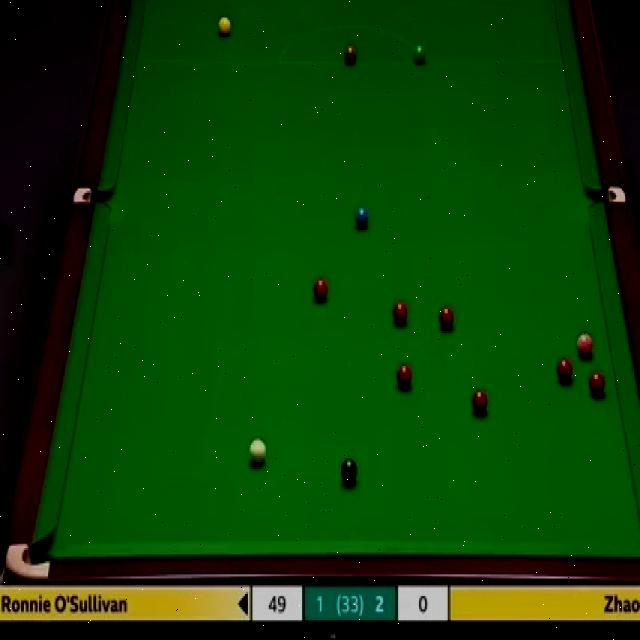blue-ball: (355, 207, 369, 231)
brown-ball: (344, 47, 357, 66)
green-ball: (414, 44, 426, 66)
pink-ball: (577, 332, 595, 360)
red-ball: (470, 389, 489, 416), (588, 370, 606, 397), (439, 303, 456, 331), (391, 302, 408, 328), (397, 365, 413, 391), (556, 360, 574, 382), (314, 276, 328, 301)
white-ball: (248, 436, 268, 466), (341, 457, 358, 484)
yellow-ball: (217, 17, 233, 40)
